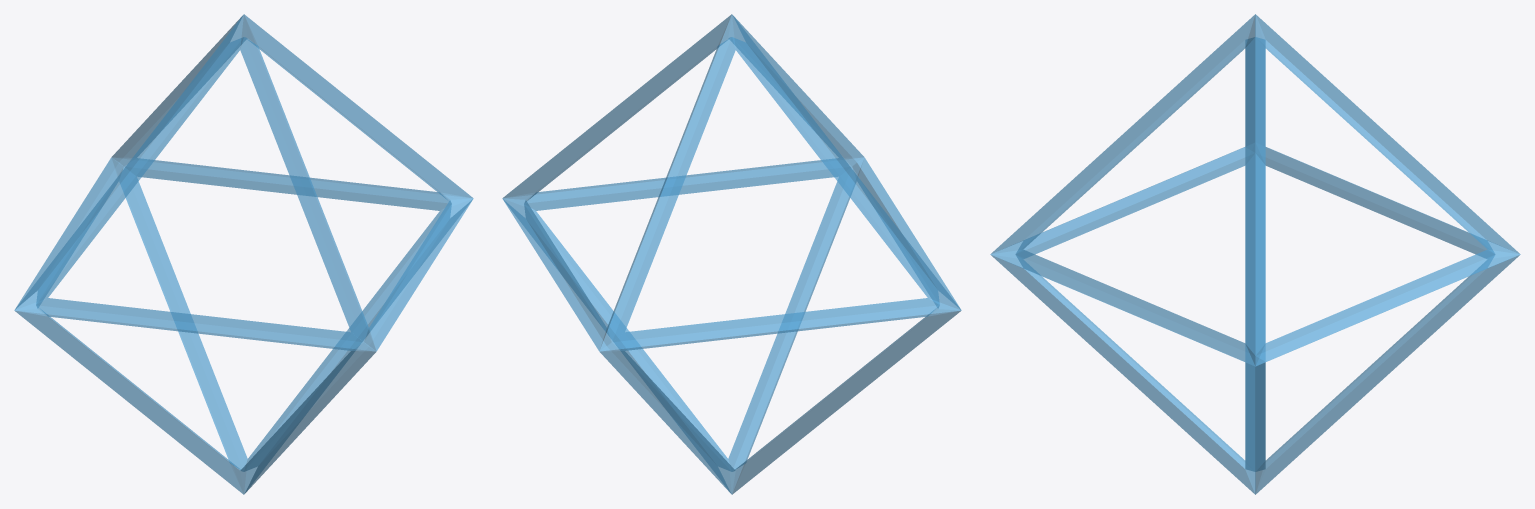
The model's file is Octaedro_wireframe.glb.
3 views of the same model, side by side, from view 1: azimuth 30°, elevation 25°; view 2: azimuth 150°, elevation 25°; view 3: azimuth 270°, elevation 25° (orthographic).
Parts seen in each view (by area): view 1: Solid.005; view 2: Solid.005; view 3: Solid.005.
Boxes of the visible parts, x1,y1,x2,y2 form: Solid.005: (14,14,473,494); Solid.005: (502,14,961,494); Solid.005: (990,14,1520,494).
Bounding box in the file's own units: 2.1 × 2.1 × 2.1.
